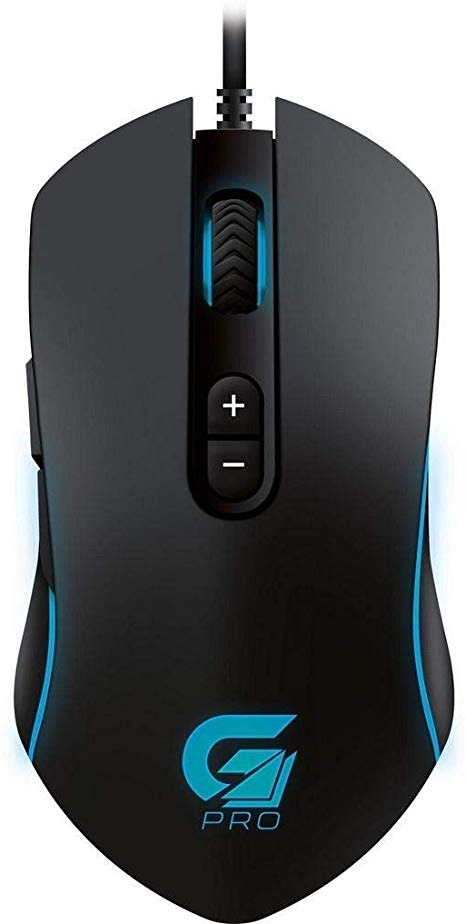mouse: (0, 99, 466, 924)
